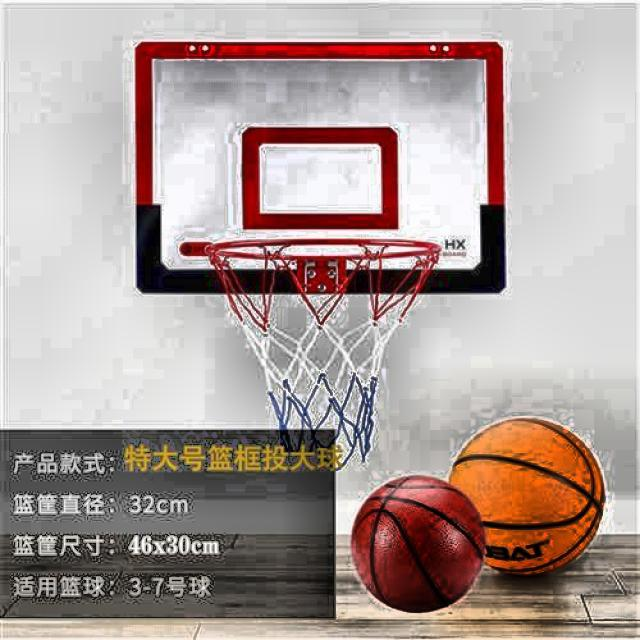board: (452, 417, 608, 575), (352, 473, 488, 614)
rim: (204, 238, 440, 460)
